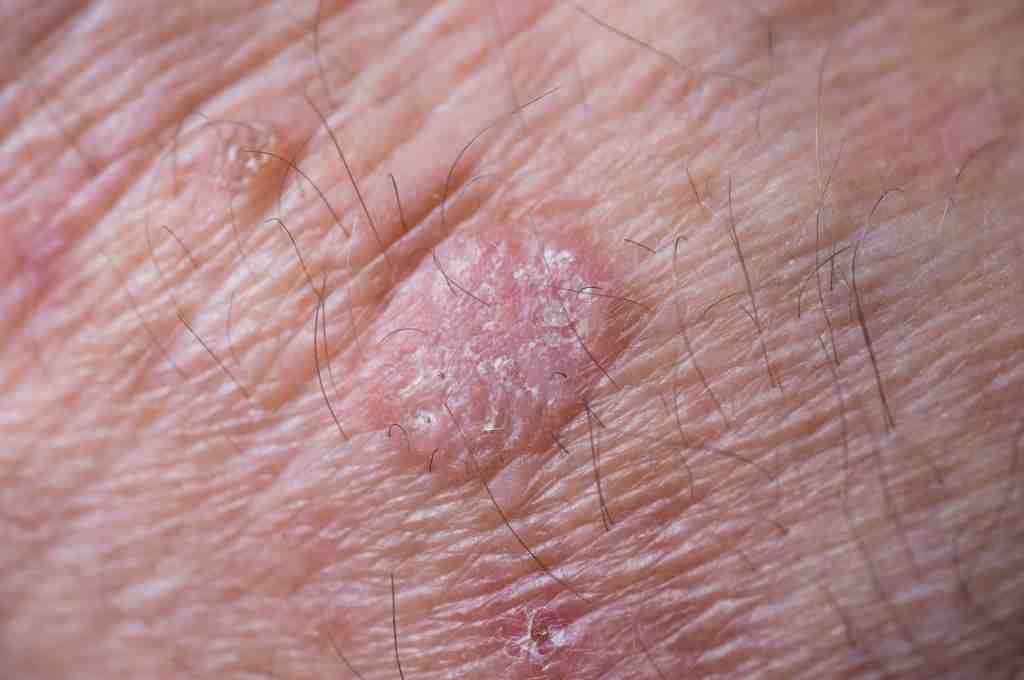Actinic Keratosis: (299, 147, 680, 544)
